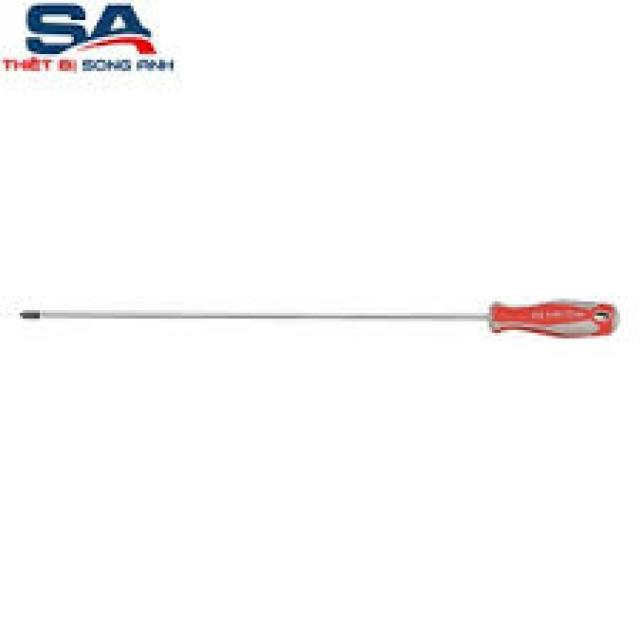screwdriver: (9, 286, 622, 348)
